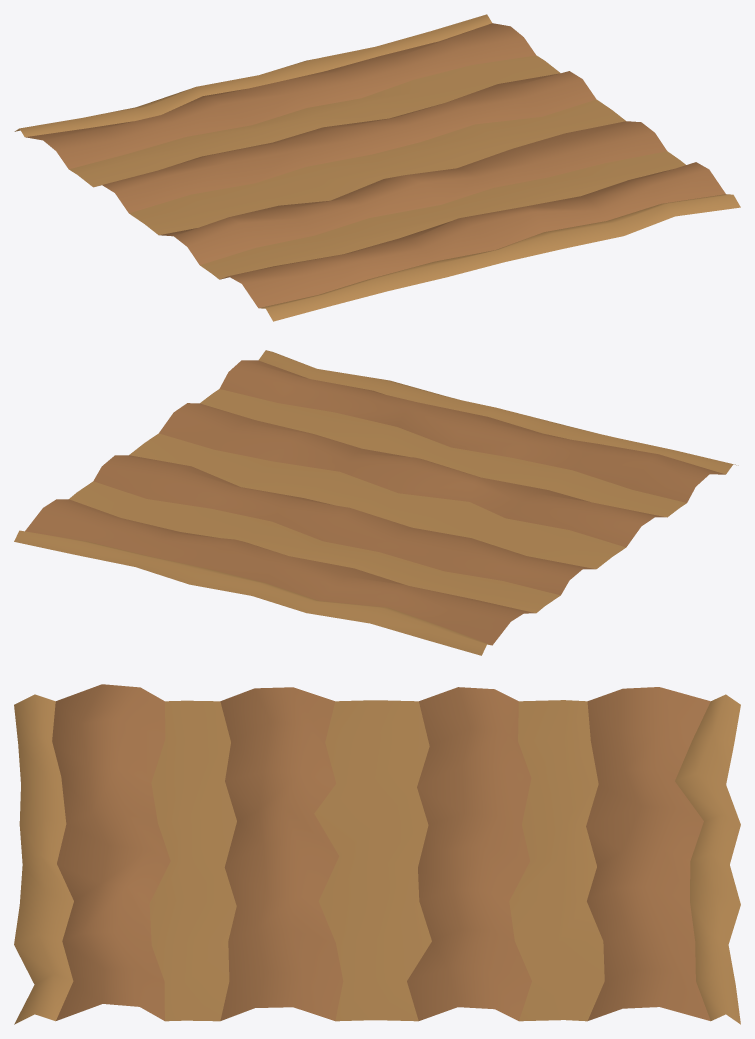
The model's file is Building_model_0_Fieldleftrightedge001.fbx.
3 renders of one model, top to bottom at view 1: azimuth 30°, elevation 25°; view 2: azimuth 150°, elevation 25°; view 3: azimuth 270°, elevation 25°, orthographic. The views are drawn at different scales.
Visible parts, largest first — view 1: Building_model_0_Fieldleftrightedge001; view 2: Building_model_0_Fieldleftrightedge001; view 3: Building_model_0_Fieldleftrightedge001.
Part boxes in pixels (<box>): Building_model_0_Fieldleftrightedge001: <box>14,14,740,321</box>; Building_model_0_Fieldleftrightedge001: <box>14,350,738,655</box>; Building_model_0_Fieldleftrightedge001: <box>14,684,740,1024</box>.
Bounding box in the file's own units: 3 × 0.1042 × 2.88.
